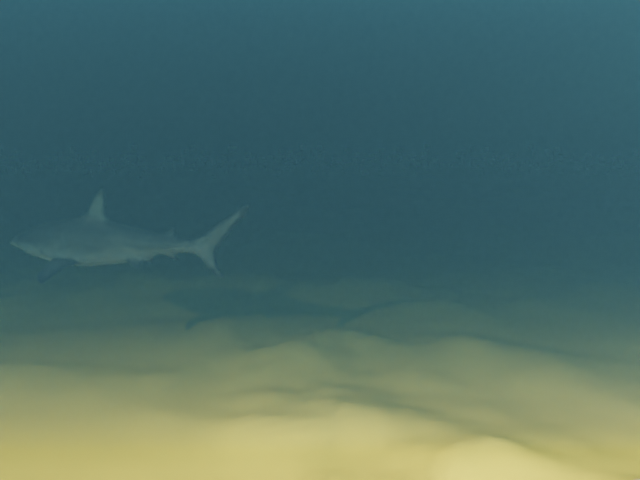Carribean Shark.001: (9, 188, 249, 283)
